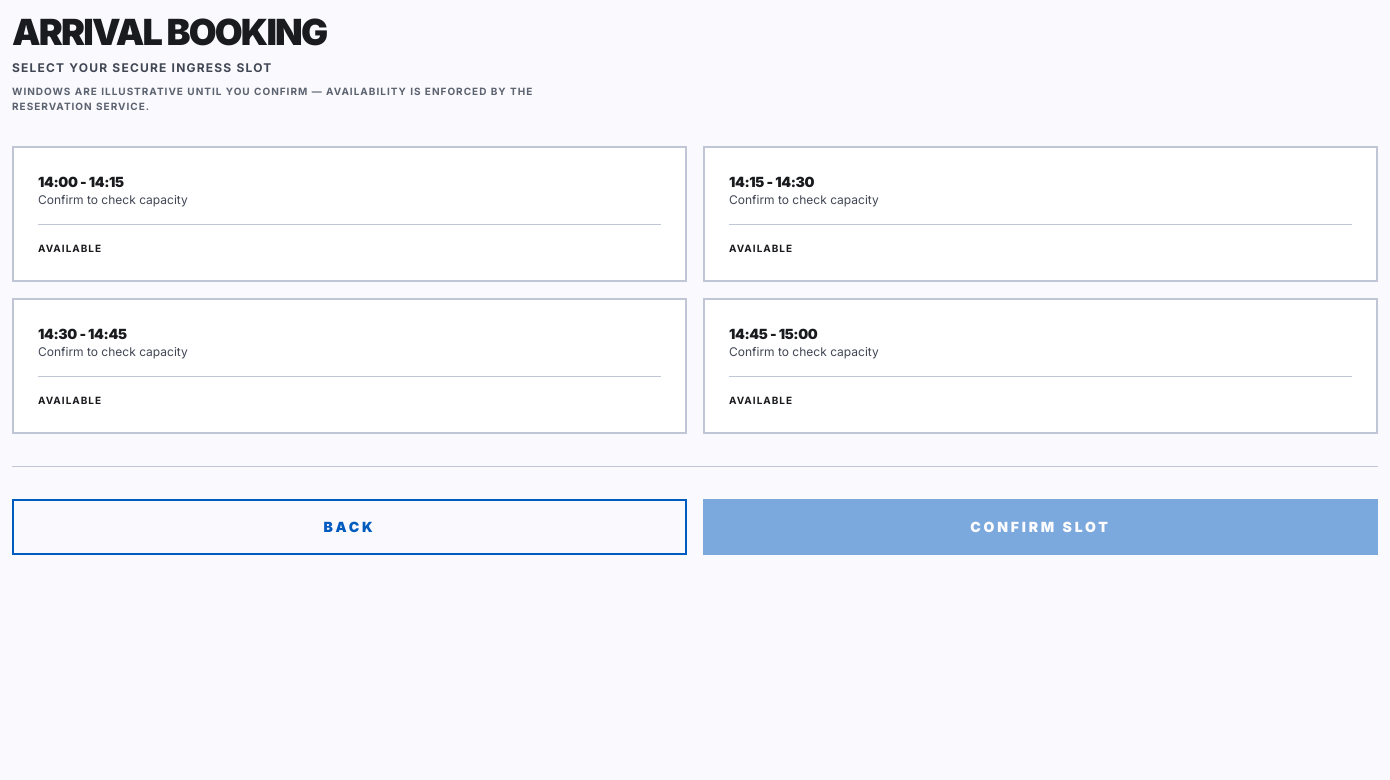
Booking › selects a slot and confirms reservation
Click the text "14:00 - 14:15" at (81, 182), box x1=38 y1=173 x2=124 y2=190
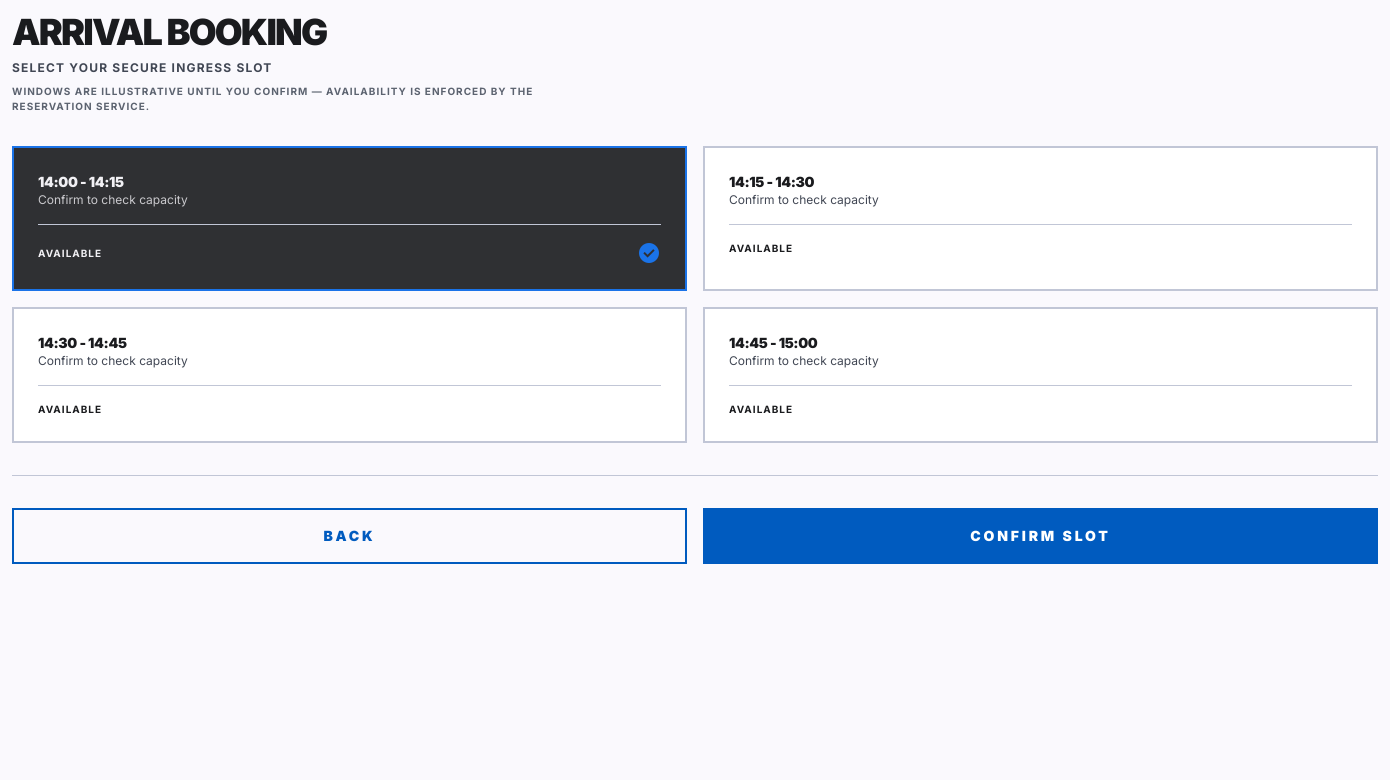
Click the button "Confirm Slot" at (1040, 536), box x1=703 y1=508 x2=1378 y2=564
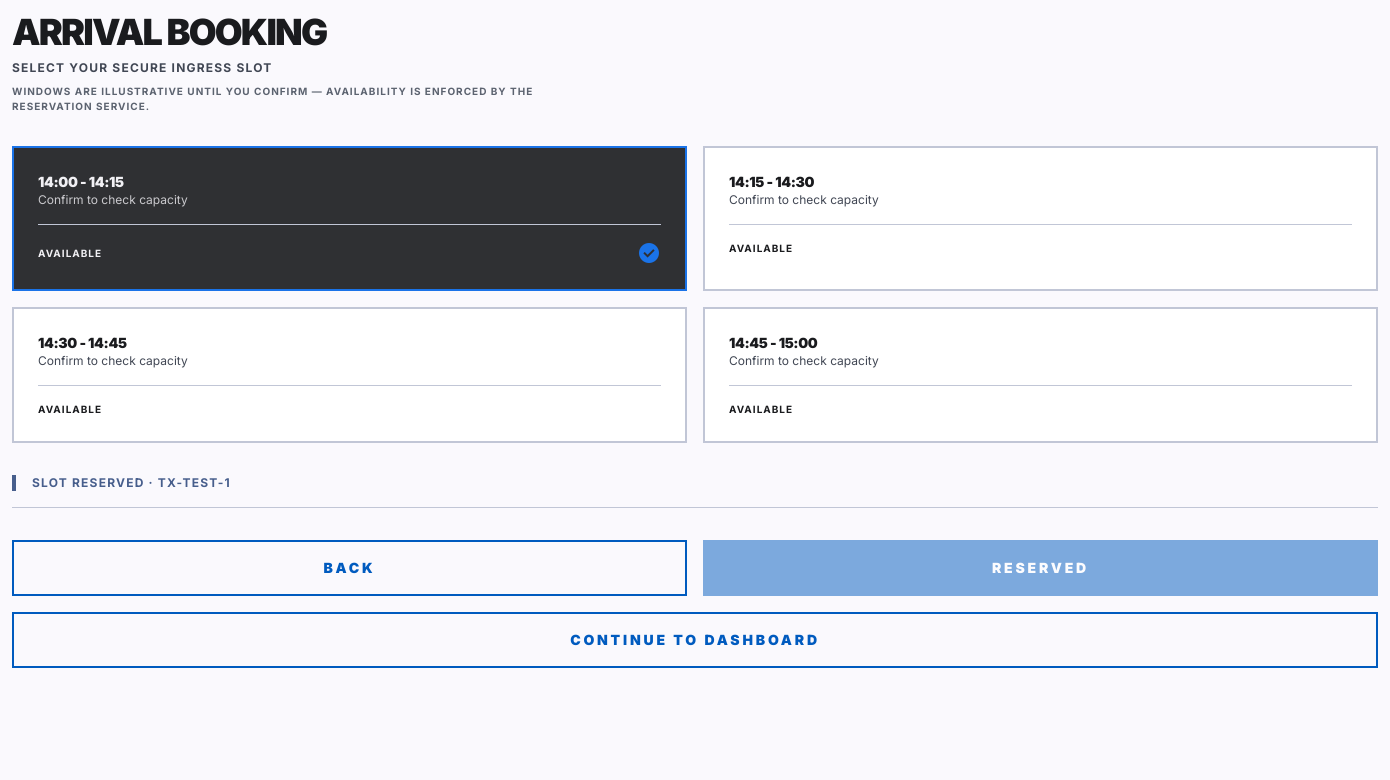
Now the text "Slot reserved · tx-test-1" is shown, box x1=12 y1=475 x2=1378 y2=491
